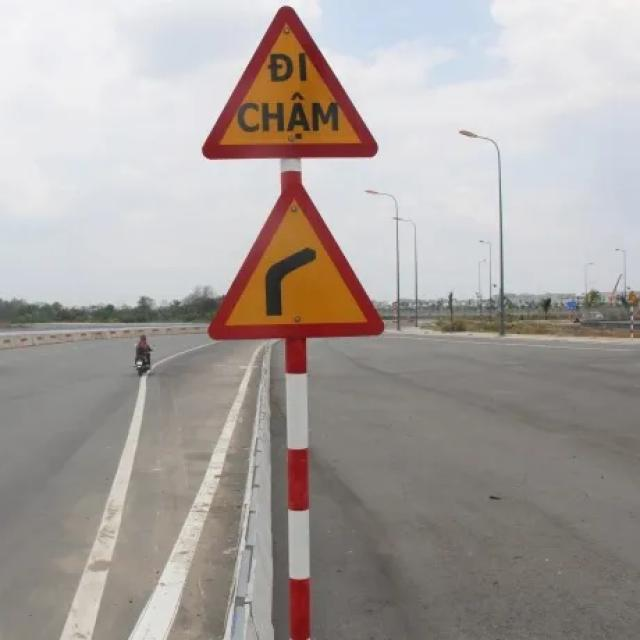bien_nguy_hiem: (197, 7, 382, 161)
